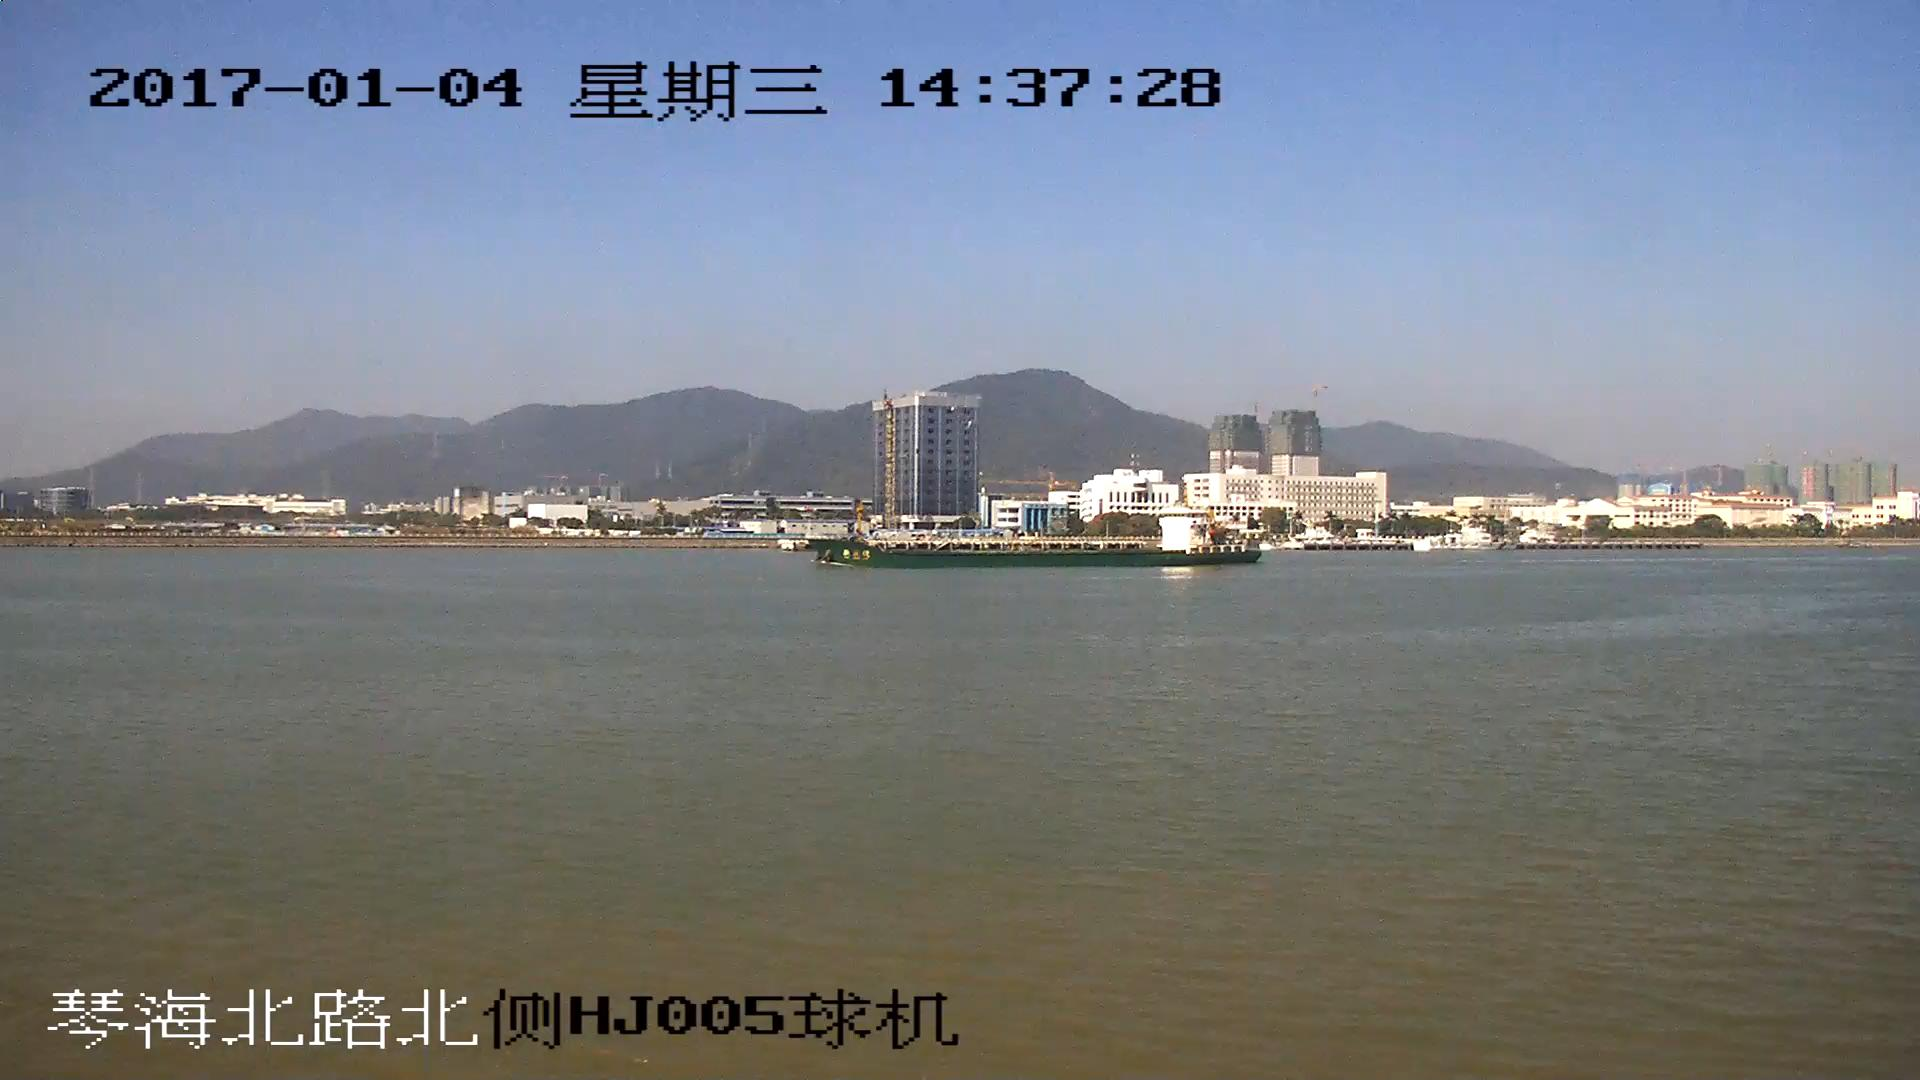general cargo ship: (806, 503, 1263, 565)
